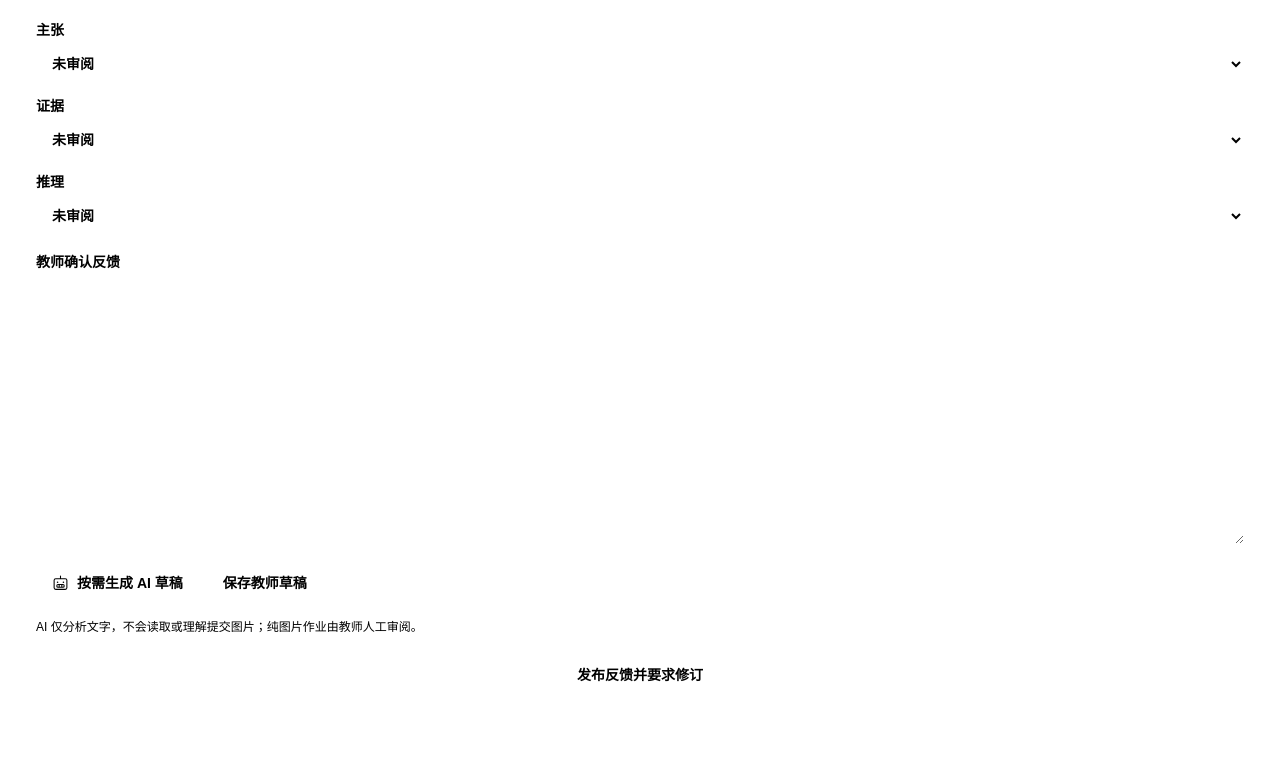
Test: TeachingSubmissionReviewPage › binds an AI draft to the sealed version, then releases an edited revision decision
The image size is (1280, 778).
(page scrolled)
Expected: the text "AI 草稿，尚未由教师确认。" is not shown
Click the button "按需生成 AI 草稿" at (117, 583), box [36, 565, 199, 601]
(page scrolled)
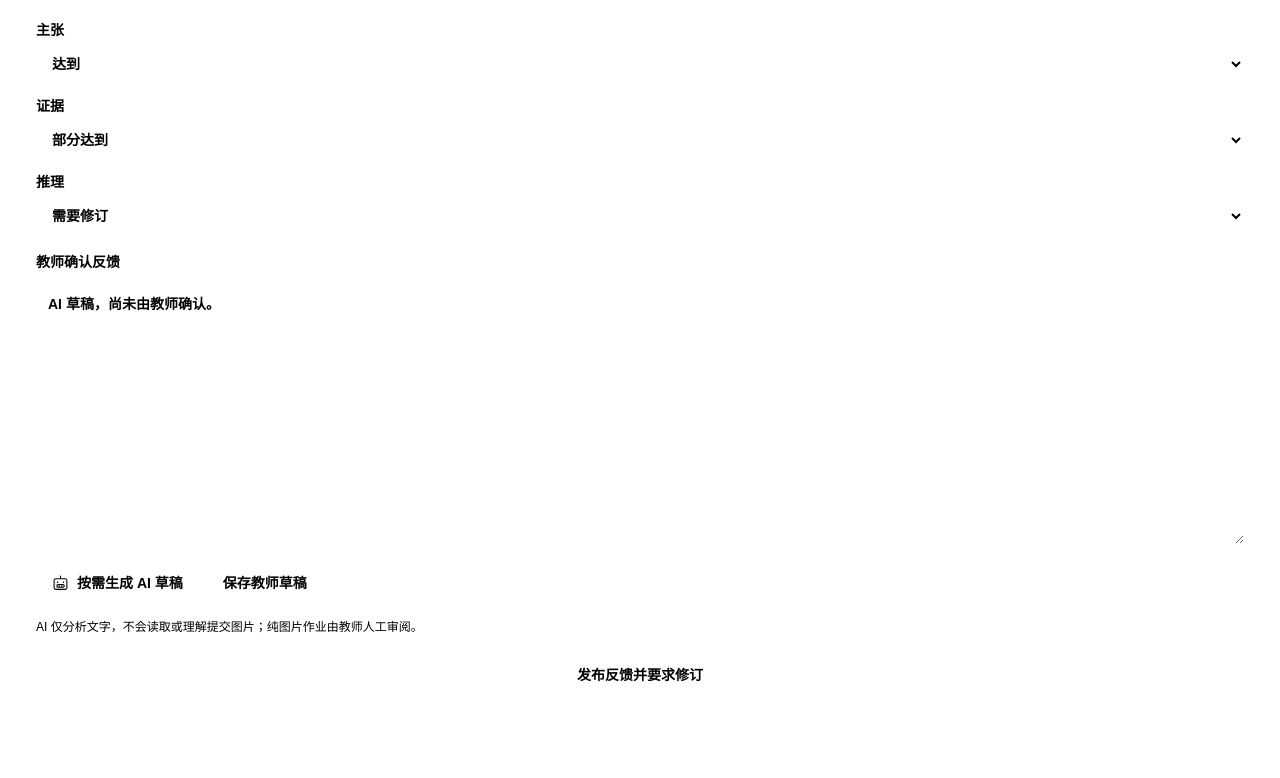
Result: the text box labelled "教师确认反馈" holds "AI 草稿，尚未由教师确认。"
Replace the text in the text box labelled "教师确认反馈" with "教师修改后反馈。" at (640, 412), box [36, 280, 1244, 544]
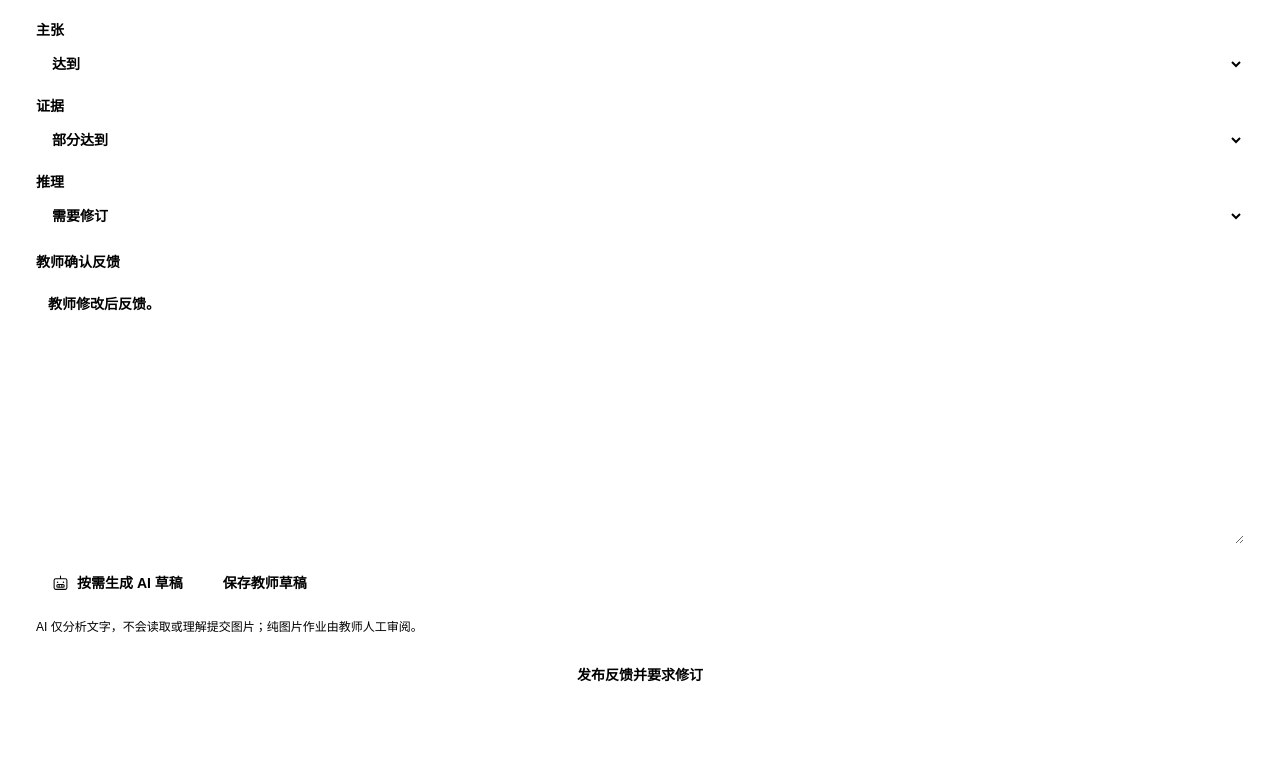
Click the button "发布反馈并要求修订" at (640, 675), box [36, 653, 1244, 697]
(page scrolled)
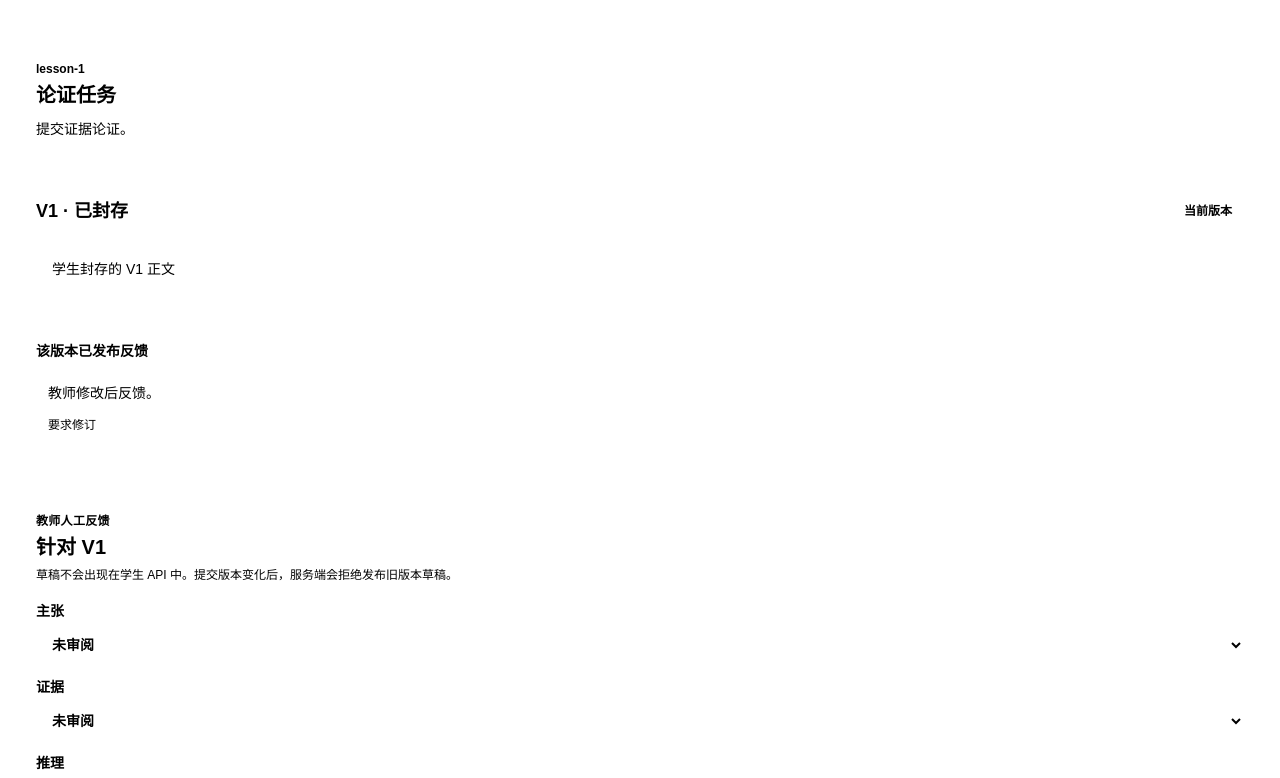
Result: the text "教师修改后反馈。" is shown at [48, 385, 160, 401]
